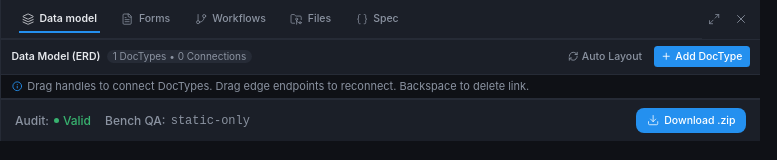
Workspace Component › switches to forms and workflows tabs correctly
// Switch to Workflows
Click the button "Workflows": (230, 19) [184,5,276,33]
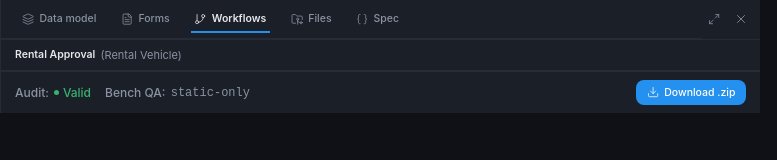
Expected: the text "Valid" is shown, [54,84,91,100]
Expected: the text "Rental Approval" is shown, [15,48,95,62]
